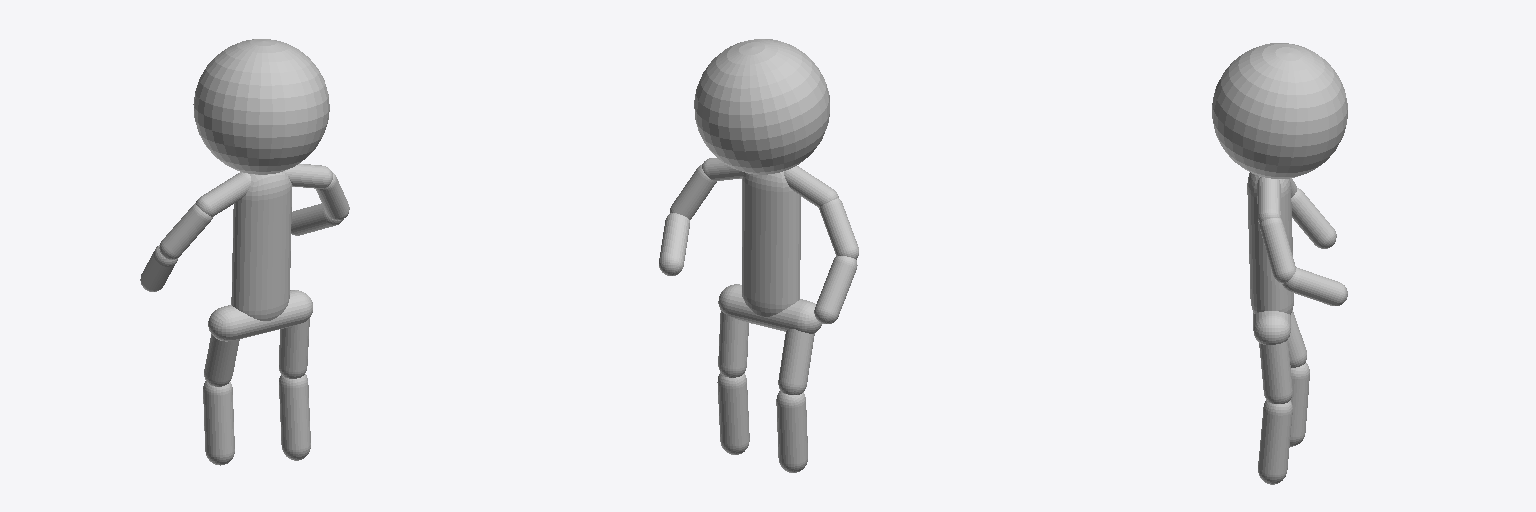
The model's file is Stickman_000031.obj.
3 views of the same model, side by side, from view 1: azimuth 30°, elevation 25°; view 2: azimuth 150°, elevation 25°; view 3: azimuth 270°, elevation 25° (orthographic).
Parts seen in each view (by area): view 1: Head_Sphere.001, Body_Roundcube.002, Hip_Roundcube.005, LowerLegLeft_Roundcube.013, LowerLegRight_Roundcube.011, UpperLegLeft_Roundcube.012, UpperArmRight_Roundcube.015, UpperLegRight_Roundcube.010, ShoulderRight_Roundcube.014, LowerArmLeft_Roundcube.019, ShoulderLeft_Roundcube.017, LowerArmRight_Roundcube.016 (+1 smaller); view 2: Head_Sphere.001, Body_Roundcube.002, LowerLegRight_Roundcube.011, LowerLegLeft_Roundcube.013, Hip_Roundcube.005, UpperLegRight_Roundcube.010, LowerArmRight_Roundcube.016, UpperLegLeft_Roundcube.012, LowerArmLeft_Roundcube.019, UpperArmRight_Roundcube.015, ShoulderRight_Roundcube.014, UpperArmLeft_Roundcube.018 (+1 smaller); view 3: Head_Sphere.001, Body_Roundcube.002, LowerLegLeft_Roundcube.013, UpperLegLeft_Roundcube.012, UpperArmLeft_Roundcube.018, LowerArmLeft_Roundcube.019, LowerArmRight_Roundcube.016, LowerLegRight_Roundcube.011, Hip_Roundcube.005, ShoulderLeft_Roundcube.017, UpperLegRight_Roundcube.010.
Boxes of the visible parts, <box> form: Head_Sphere.001: <box>193,39,329,174</box>; Body_Roundcube.002: <box>231,171,291,320</box>; Hip_Roundcube.005: <box>208,290,312,341</box>; LowerLegLeft_Roundcube.013: <box>279,374,310,460</box>; LowerLegRight_Roundcube.011: <box>203,381,234,465</box>; UpperLegLeft_Roundcube.012: <box>279,318,309,378</box>; UpperArmRight_Roundcube.015: <box>159,203,212,259</box>; UpperLegRight_Roundcube.010: <box>204,334,239,386</box>; ShoulderRight_Roundcube.014: <box>196,172,250,216</box>; LowerArmLeft_Roundcube.019: <box>291,203,343,235</box>; ShoulderLeft_Roundcube.017: <box>285,163,332,188</box>; LowerArmRight_Roundcube.016: <box>140,245,177,291</box>; Head_Sphere.001: <box>694,39,829,174</box>; Body_Roundcube.002: <box>742,171,800,316</box>; LowerLegRight_Roundcube.011: <box>776,391,807,472</box>; LowerLegLeft_Roundcube.013: <box>717,373,749,454</box>; Hip_Roundcube.005: <box>718,284,821,333</box>; UpperLegRight_Roundcube.010: <box>778,329,814,394</box>; LowerArmRight_Roundcube.016: <box>814,256,857,323</box>; UpperLegLeft_Roundcube.012: <box>718,311,748,377</box>; LowerArmLeft_Roundcube.019: <box>659,213,689,275</box>; UpperArmRight_Roundcube.015: <box>819,198,858,259</box>; ShoulderRight_Roundcube.014: <box>784,166,838,207</box>; UpperArmLeft_Roundcube.018: <box>670,165,716,219</box>; Head_Sphere.001: <box>1212,43,1347,178</box>; Body_Roundcube.002: <box>1247,172,1293,314</box>; LowerLegLeft_Roundcube.013: <box>1258,400,1292,484</box>; UpperLegLeft_Roundcube.012: <box>1259,340,1292,403</box>; UpperArmLeft_Roundcube.018: <box>1260,218,1295,283</box>; LowerArmLeft_Roundcube.019: <box>1282,267,1347,305</box>; LowerArmRight_Roundcube.016: <box>1291,188,1336,248</box>; LowerLegRight_Roundcube.011: <box>1290,363,1309,446</box>; Hip_Roundcube.005: <box>1253,311,1290,344</box>; ShoulderLeft_Roundcube.017: <box>1257,177,1280,223</box>; UpperLegRight_Roundcube.010: <box>1288,310,1306,367</box>.
Size of the model in its own units: 5.22 by 11.08 by 3.26.